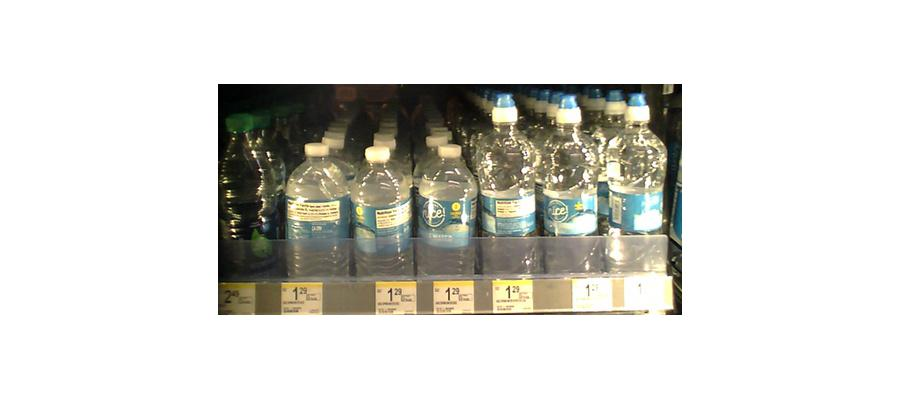bottle: (605, 91, 665, 278), (479, 91, 538, 277), (540, 97, 599, 274), (218, 115, 279, 273), (287, 138, 350, 279), (415, 140, 475, 278), (350, 145, 411, 275)
